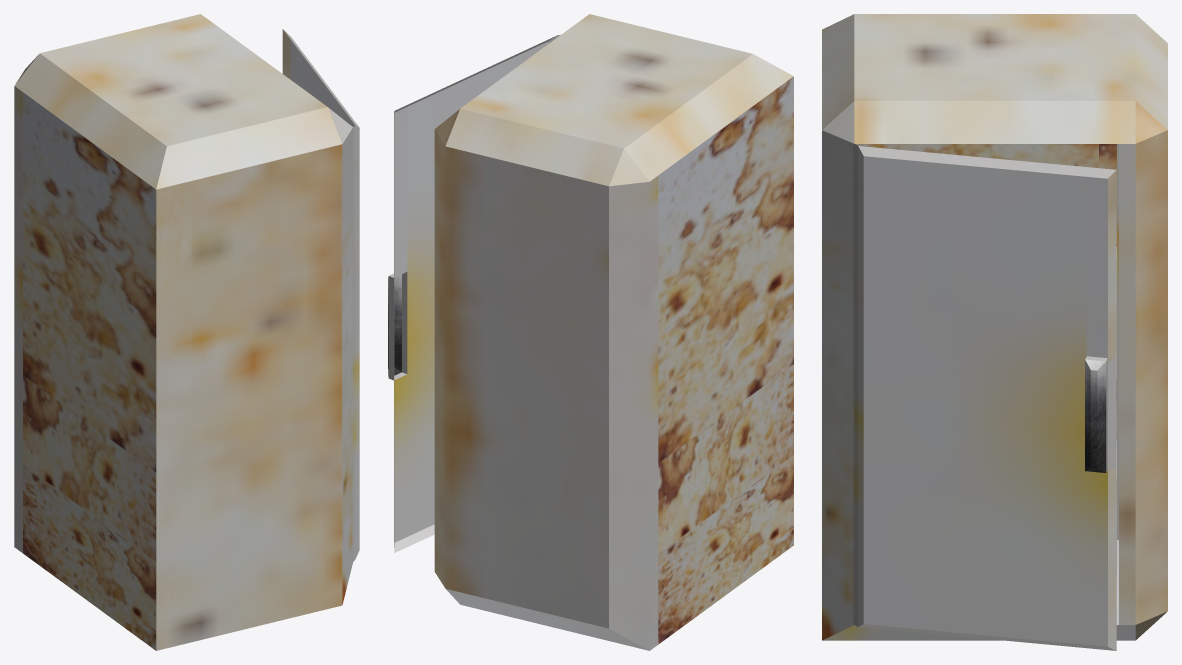
File: geladeira.fbx
3 renders of one model, left to right at view 1: azimuth 30°, elevation 25°; view 2: azimuth 150°, elevation 25°; view 3: azimuth 270°, elevation 25°, orthographic. The views are drawn at different scales.
Parts seen in each view (by area): view 1: geladeira; view 2: geladeira; view 3: geladeira.
Boxes of the visible parts, x1=… form: geladeira: x1=14, y1=14, x2=359, y2=650; geladeira: x1=388, y1=14, x2=793, y2=650; geladeira: x1=822, y1=14, x2=1167, y2=650.
Bounding box in the file's own units: 155 × 263 × 153.
1 material, 1 textured.
